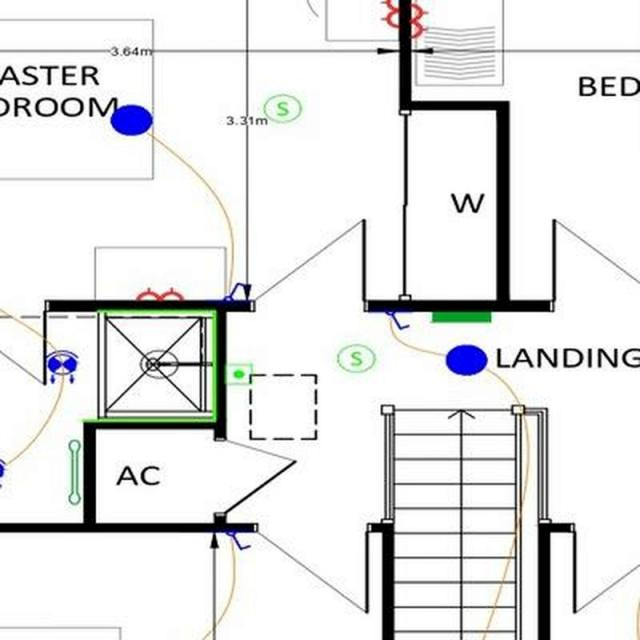Double Socket: (410, 1, 428, 38), (137, 286, 182, 300), (380, 0, 396, 27)
Full Height Tiling: (80, 309, 214, 422)
Light Switch: (382, 310, 408, 330), (223, 532, 251, 550), (225, 282, 245, 300)
Low Energy Downlighter: (46, 350, 78, 384)
Low Energy Pendant Light: (110, 103, 152, 135), (445, 344, 486, 374)
Mains Wired Smoke Detector: (263, 94, 300, 122), (335, 344, 374, 370)
Programmable Room Thermostat: (225, 364, 250, 384)
Radiator: (430, 312, 490, 323)
